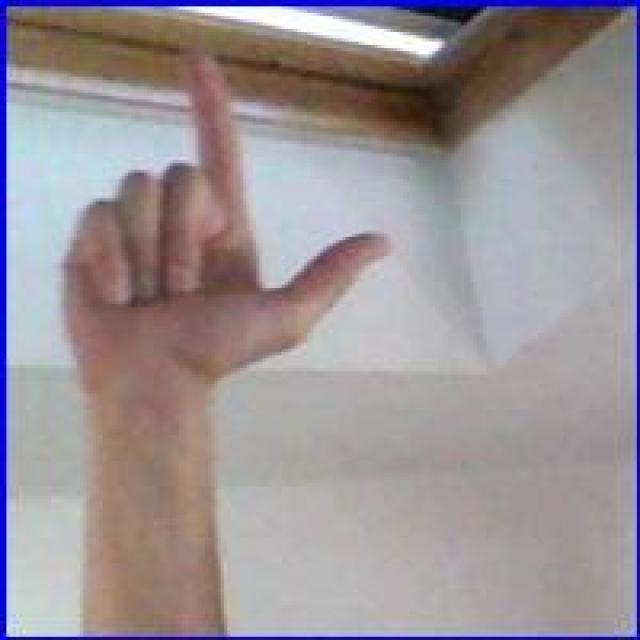L: (54, 42, 400, 410)
